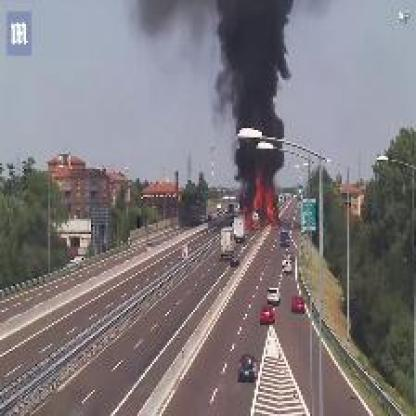fire: (245, 167, 282, 232)
